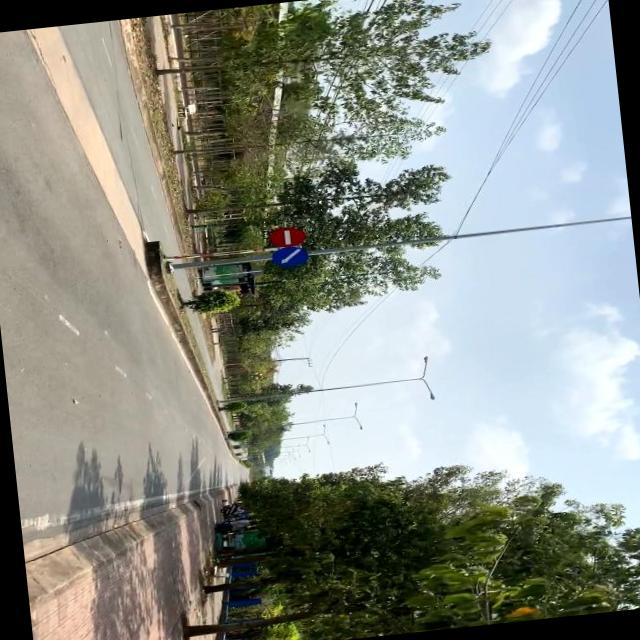P-102: (266, 225, 308, 249)
R-302a: (270, 243, 310, 270)
